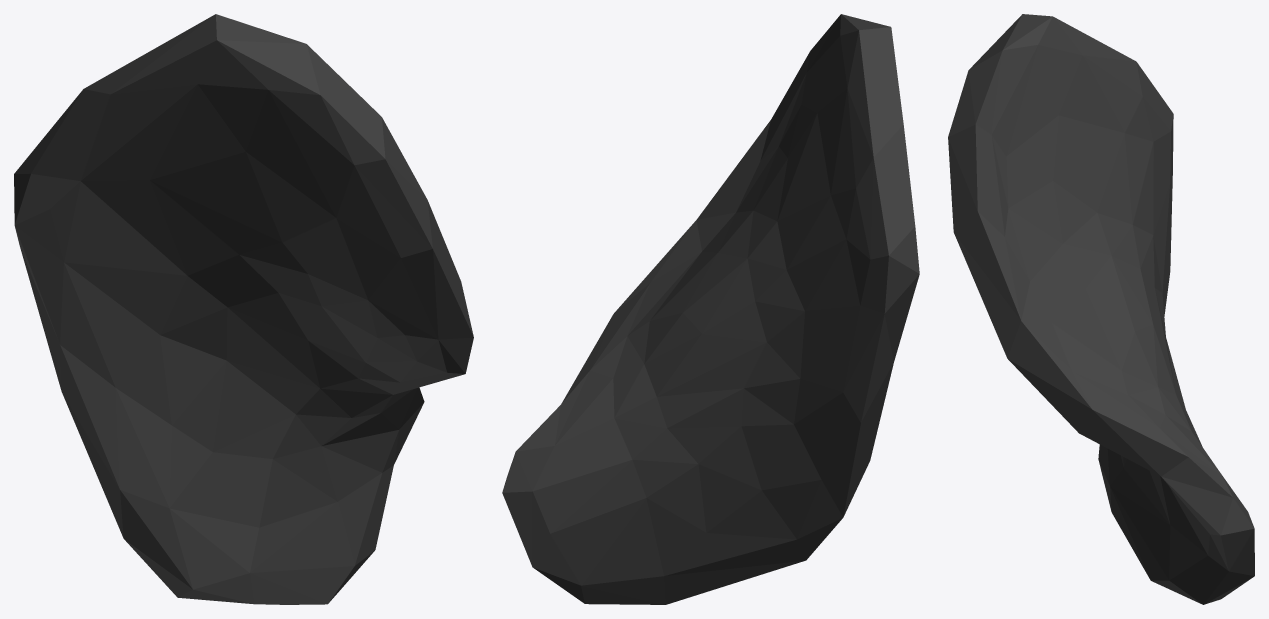
The model's file is Tarsal_IV_sulcus_tendon_fibularis.glb.
The picture shows the model from 3 angles, left to right: view 1: azimuth 30°, elevation 25°; view 2: azimuth 150°, elevation 25°; view 3: azimuth 270°, elevation 25°; orthographic projection. The views are drawn at different scales.
Parts seen in each view (by area): view 1: Tarsal_IV_sulcus_tendon_fibularis; view 2: Tarsal_IV_sulcus_tendon_fibularis; view 3: Tarsal_IV_sulcus_tendon_fibularis.
Boxes of the visible parts, box(x1,y1,x2,y2) form: Tarsal_IV_sulcus_tendon_fibularis: box(14, 14, 473, 604); Tarsal_IV_sulcus_tendon_fibularis: box(502, 14, 919, 604); Tarsal_IV_sulcus_tendon_fibularis: box(948, 14, 1254, 604).
Size of the model in its own units: 0.0104 by 0.0148 by 0.00815.
1 material, 1 textured.
